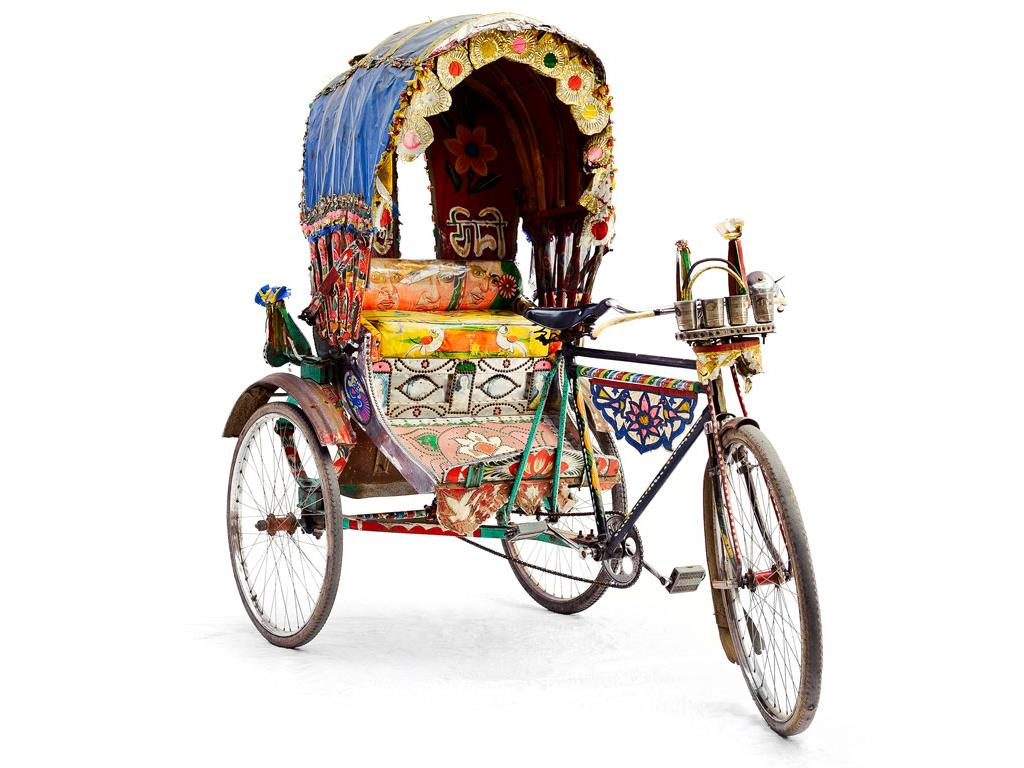Rickshaw: (187, 12, 852, 758)
